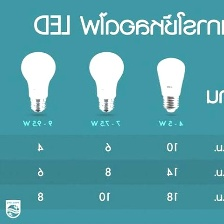light_bulb: (86, 49, 126, 116), (19, 48, 58, 114), (155, 55, 187, 116)
